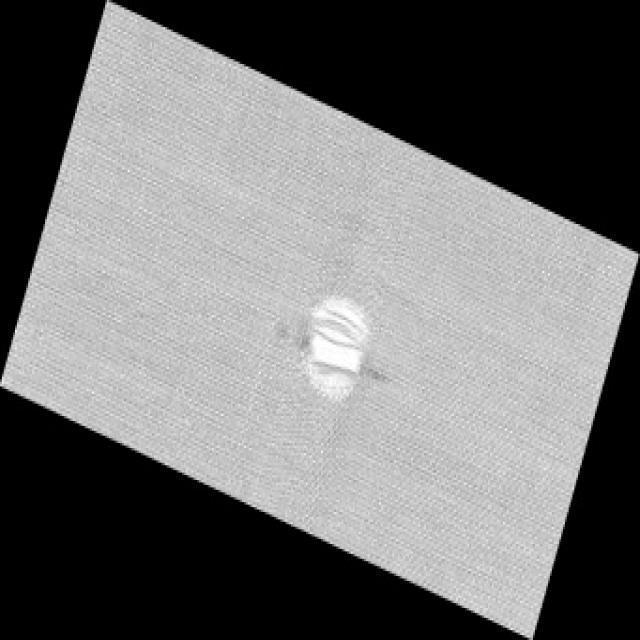seam: (274, 264, 415, 422)
